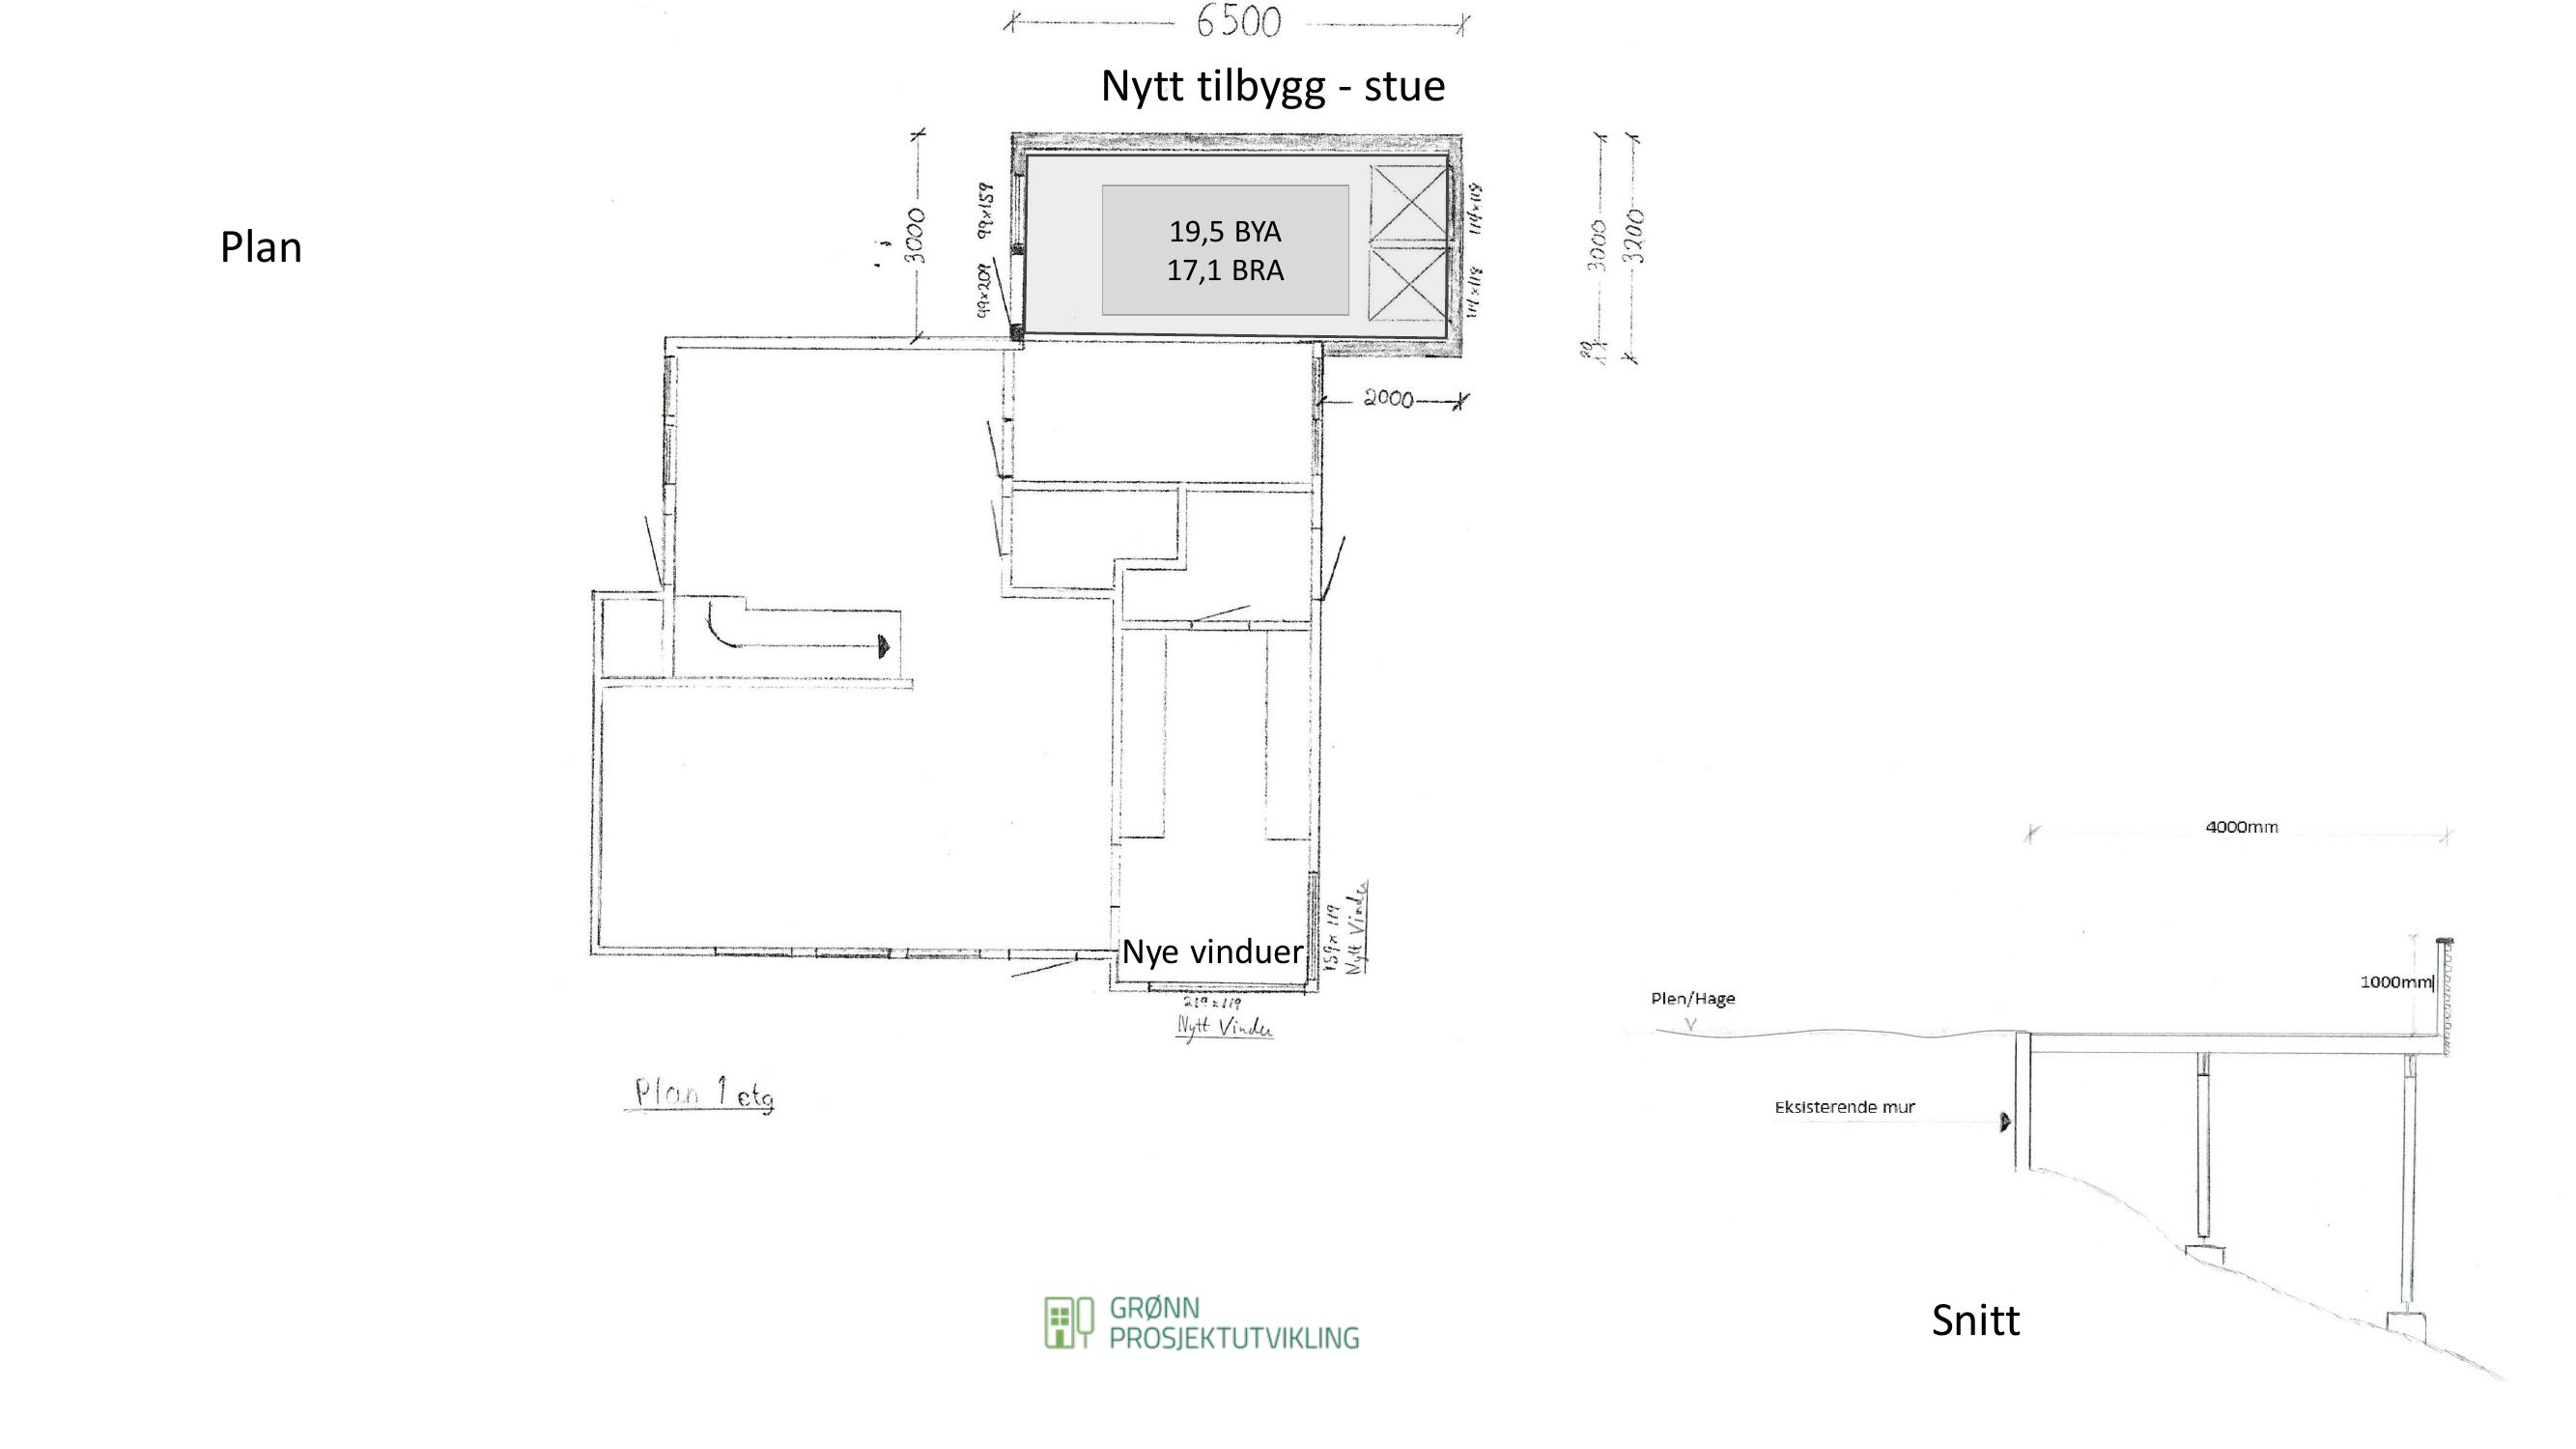plantegning: (556, 111, 1511, 1058)
